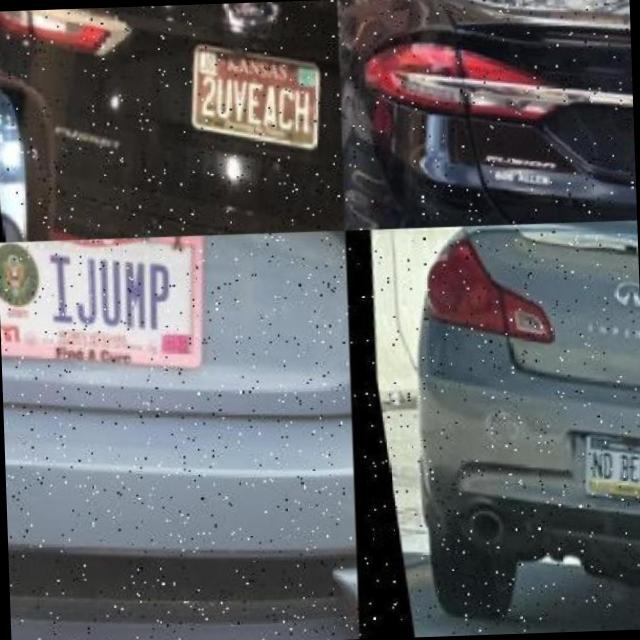LicensePlate: (0, 234, 194, 367), (179, 41, 309, 146), (572, 430, 640, 502)
